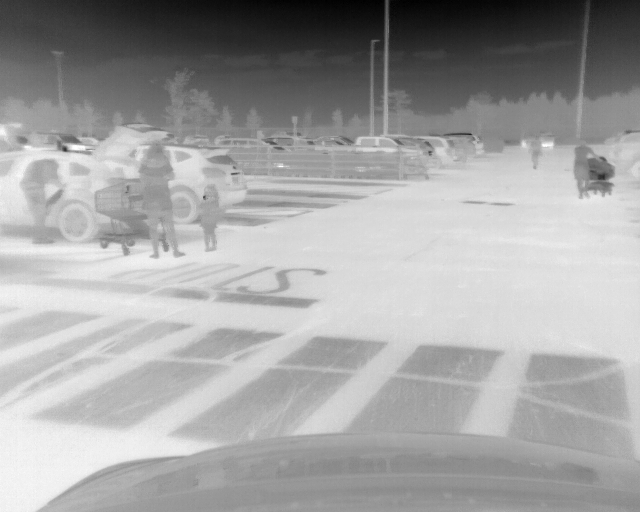car: (1, 120, 175, 243), (127, 143, 252, 224), (354, 135, 432, 177), (420, 135, 455, 172), (454, 133, 484, 166), (520, 130, 559, 150)
people: (137, 143, 184, 257), (19, 157, 62, 247), (573, 141, 602, 199), (197, 182, 221, 251), (528, 135, 544, 170)
